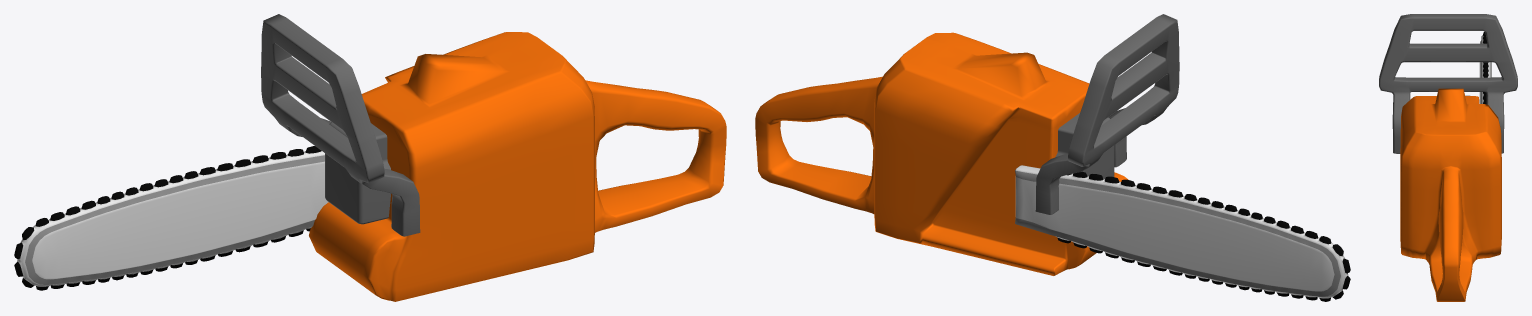
The model's file is knife7.fbx.
The picture shows the model from 3 angles, left to right: view 1: azimuth 30°, elevation 25°; view 2: azimuth 150°, elevation 25°; view 3: azimuth 270°, elevation 25°; orthographic projection. The views are drawn at different scales.
Visible parts, largest first — view 1: knife7.003, knife7.002, knife7, knife7.001; view 2: knife7.003, knife7.002, knife7, knife7.001; view 3: knife7.003, knife7, knife7.002.
Part boxes in pixels (x1=…): knife7.003: x1=309, y1=32, x2=726, y2=301; knife7.002: x1=14, y1=146, x2=328, y2=290; knife7: x1=261, y1=14, x2=420, y2=236; knife7.001: x1=325, y1=122, x2=390, y2=224; knife7.003: x1=755, y1=32, x2=1128, y2=275; knife7.002: x1=1015, y1=165, x2=1350, y2=301; knife7: x1=1035, y1=14, x2=1179, y2=214; knife7.001: x1=1055, y1=113, x2=1114, y2=178; knife7.003: x1=1400, y1=88, x2=1501, y2=301; knife7: x1=1379, y1=14, x2=1517, y2=153; knife7.002: x1=1479, y1=32, x2=1491, y2=104.
Bounding box in the file's own units: 1500 × 525 × 408.
